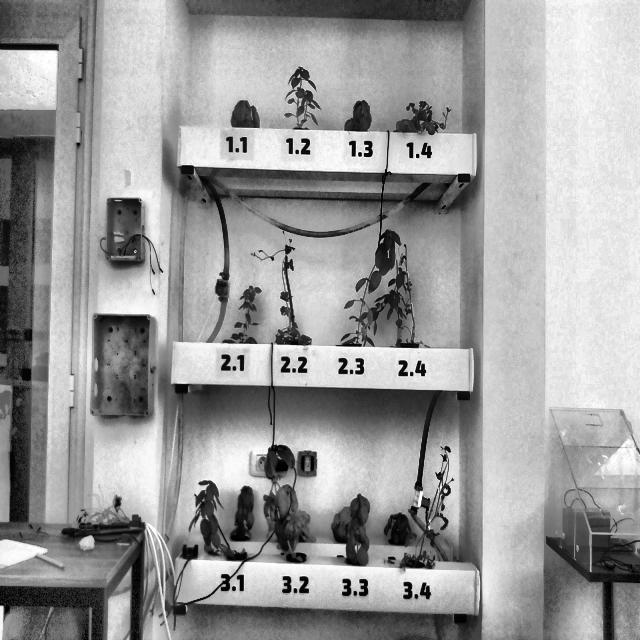plants: (341, 230, 402, 347), (406, 445, 453, 569), (264, 445, 307, 560), (274, 238, 313, 346), (190, 481, 239, 558), (264, 482, 310, 546), (284, 68, 321, 129), (396, 99, 452, 134), (232, 285, 262, 343), (346, 494, 370, 564), (403, 239, 418, 344), (233, 486, 255, 536), (331, 508, 360, 543), (344, 100, 372, 131), (383, 513, 410, 545), (232, 100, 260, 128)
